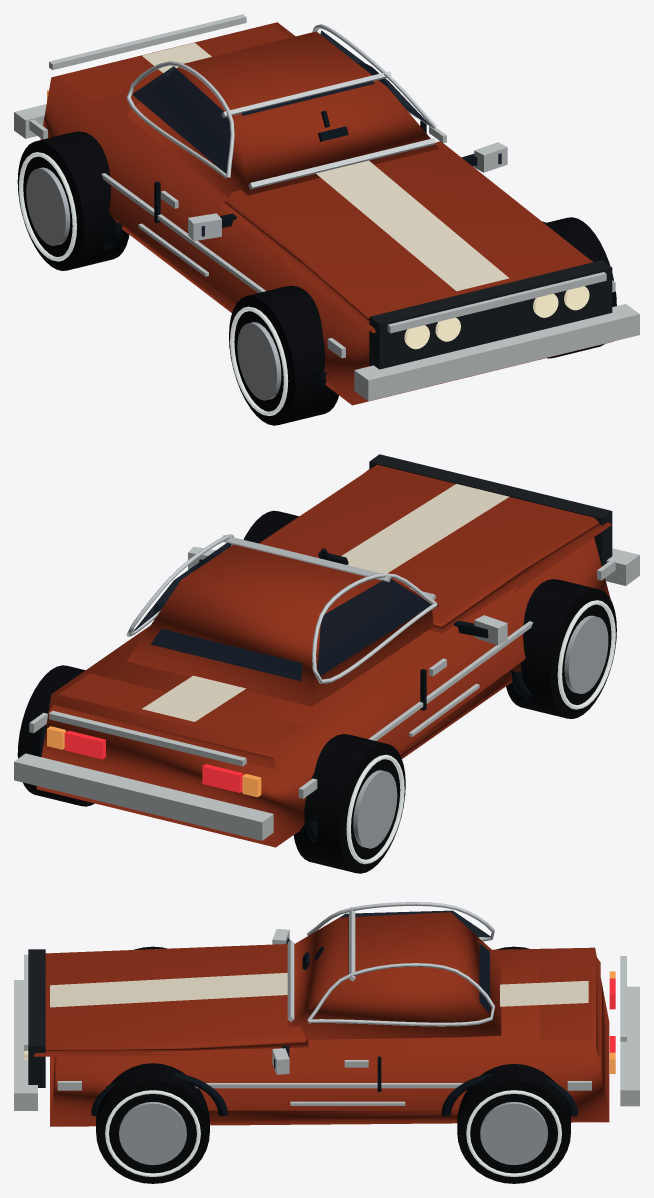
The model's file is sabre-turbo-Bq0uDyjH.glb.
3 renders of one model, top to bottom at view 1: azimuth 30°, elevation 25°; view 2: azimuth 150°, elevation 25°; view 3: azimuth 270°, elevation 25°, orthographic. The views are drawn at different scales.
Parts seen in each view (by area): view 1: Hood_LongMuscleHood, Cabin_FastbackRoof, Body_SculptedFastbackShell, Grille_BlackRecess, Bumper_FrontChrome, Stripe_Hood, WheelMesh_WheelFrontLeft, WheelMesh_WheelRearLeft, Glass_SideWindow_Left, Trunk_SlopedDeck, Hubcap_WheelFrontLeft, Hubcap_WheelRearLeft (+15 smaller); view 2: Body_SculptedFastbackShell, Cabin_FastbackRoof, Hood_LongMuscleHood, WheelMesh_WheelRearLeft, Bumper_RearChrome, WheelMesh_WheelFrontLeft, Trunk_SlopedDeck, Stripe_Hood, Glass_SideWindow_Left, Grille_BlackRecess, Glass_RearWindow, Hubcap_WheelFrontLeft (+16 smaller); view 3: Body_SculptedFastbackShell, Cabin_FastbackRoof, Hood_LongMuscleHood, WheelMesh_WheelFrontRight, WheelMesh_WheelRearRight, Stripe_Hood, Trunk_SlopedDeck, Hubcap_WheelFrontRight, Hubcap_WheelRearRight, Grille_BlackRecess, Stripe_Trunk, Bumper_RearChrome (+16 smaller).
Part boxes in pixels (x1,y1,x2,y2): Hood_LongMuscleHood: [221, 141, 593, 332]; Cabin_FastbackRoof: [127, 31, 438, 197]; Body_SculptedFastbackShell: [40, 22, 613, 405]; Grille_BlackRecess: [369, 260, 612, 369]; Bumper_FrontChrome: [354, 304, 639, 401]; Stripe_Hood: [316, 160, 509, 291]; WheelMesh_WheelFrontLeft: [229, 285, 338, 425]; WheelMesh_WheelRearLeft: [17, 131, 129, 270]; Glass_SideWindow_Left: [132, 66, 230, 173]; Trunk_SlopedDeck: [48, 24, 289, 100]; Hubcap_WheelFrontLeft: [237, 322, 281, 400]; Hubcap_WheelRearLeft: [26, 167, 70, 245]; Body_SculptedFastbackShell: [36, 537, 610, 847]; Cabin_FastbackRoof: [126, 544, 438, 706]; Hood_LongMuscleHood: [259, 464, 611, 633]; WheelMesh_WheelRearLeft: [293, 734, 405, 873]; Bumper_RearChrome: [14, 753, 273, 840]; WheelMesh_WheelFrontLeft: [506, 579, 616, 718]; Trunk_SlopedDeck: [48, 673, 303, 768]; Stripe_Hood: [341, 484, 509, 573]; Glass_SideWindow_Left: [317, 579, 431, 675]; Grille_BlackRecess: [369, 454, 612, 566]; Glass_RearWindow: [150, 629, 302, 680]; Hubcap_WheelFrontLeft: [564, 615, 608, 693]; Body_SculptedFastbackShell: [50, 947, 609, 1126]; Cabin_FastbackRoof: [288, 912, 501, 1039]; Hood_LongMuscleHood: [33, 943, 308, 1056]; WheelMesh_WheelFrontRight: [96, 1063, 209, 1183]; WheelMesh_WheelRearRight: [457, 1064, 570, 1183]; Stripe_Hood: [50, 972, 287, 1007]; Trunk_SlopedDeck: [539, 949, 600, 1056]; Hubcap_WheelFrontRight: [119, 1102, 186, 1164]; Hubcap_WheelRearRight: [480, 1102, 547, 1164]; Grille_BlackRecess: [28, 949, 45, 1087]; Stripe_Trunk: [500, 980, 588, 1006]; Bumper_RearChrome: [620, 986, 639, 1106].
Bounding box in the file's own units: 2.99 × 1.86 × 5.72.
